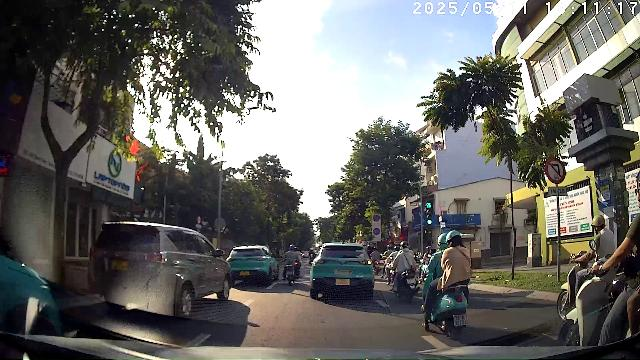103c-cam-oto-re-trai: (544, 156, 566, 184)
